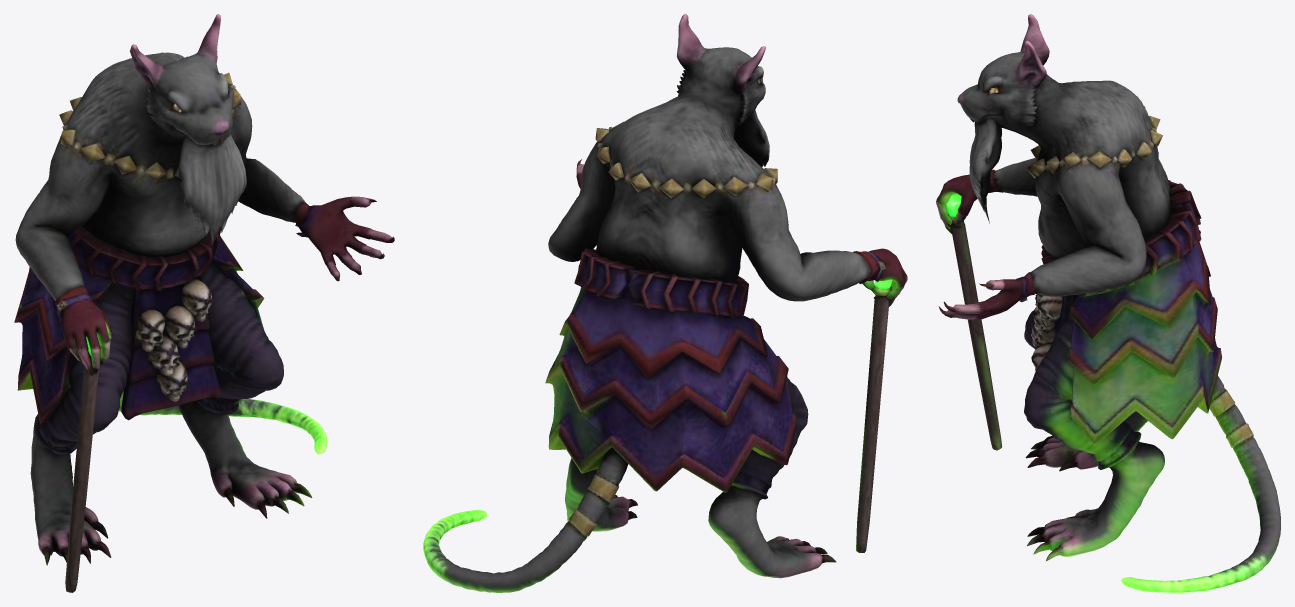
File: MZ4250 - Chittr'k'k-Demon Lord of Rats.glb
3 renders of one model, left to right at view 1: azimuth 30°, elevation 25°; view 2: azimuth 150°, elevation 25°; view 3: azimuth 270°, elevation 25°, orthographic. The views are drawn at different scales.
Visible parts, largest first — view 1: Body.004; view 2: Body.004; view 3: Body.004.
Boxes of the visible parts, x1,y1,x2,y2 form: Body.004: [14, 14, 394, 592]; Body.004: [423, 14, 907, 592]; Body.004: [936, 14, 1280, 592].
Bounding box in the file's own units: 14.18 × 19.48 × 12.62.
1 material, 1 textured.
